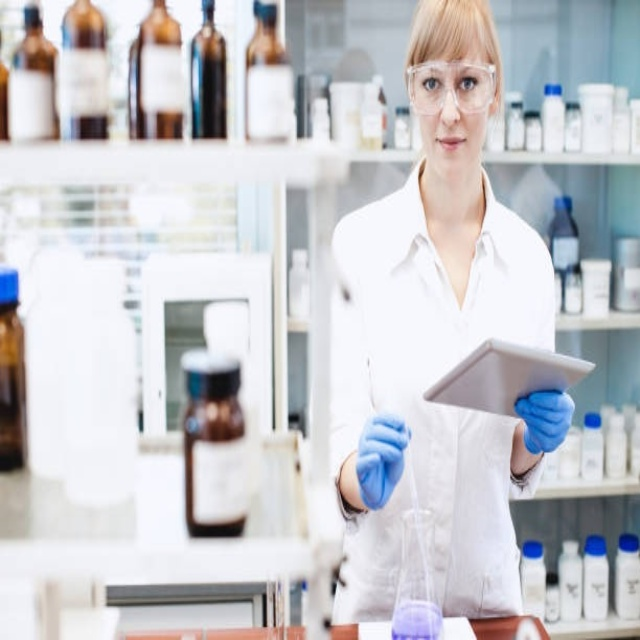Gafas: (407, 61, 498, 116)
Guantes: (356, 410, 412, 511), (515, 389, 575, 457)
Sin_mascara: (425, 124, 476, 179)
